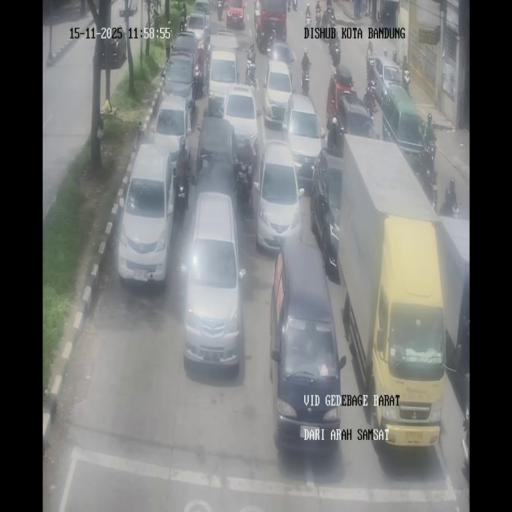3: (336, 138, 454, 447), (436, 217, 470, 390), (380, 83, 430, 174), (255, 0, 289, 51)
car: (270, 237, 342, 451), (181, 190, 246, 369), (118, 144, 176, 285), (312, 148, 345, 278), (282, 93, 324, 189), (193, 112, 237, 188), (332, 89, 376, 150), (207, 47, 241, 116), (163, 50, 199, 114), (263, 58, 295, 128), (368, 52, 403, 105), (100, 28, 128, 70), (185, 10, 210, 50), (226, 0, 246, 30)
truck: (173, 170, 189, 224), (420, 135, 437, 181), (440, 178, 460, 216), (234, 158, 246, 200), (328, 34, 341, 66), (245, 175, 254, 215), (402, 62, 412, 96), (246, 60, 258, 88), (300, 64, 310, 95), (320, 16, 329, 44), (204, 46, 210, 86), (430, 182, 438, 212), (326, 5, 336, 25), (266, 36, 274, 59), (254, 8, 261, 34), (305, 4, 312, 28), (216, 0, 224, 20), (179, 15, 187, 33), (315, 6, 322, 26), (330, 61, 338, 78), (376, 6, 382, 22), (253, 0, 259, 10), (292, 0, 297, 10), (287, 0, 291, 12)
